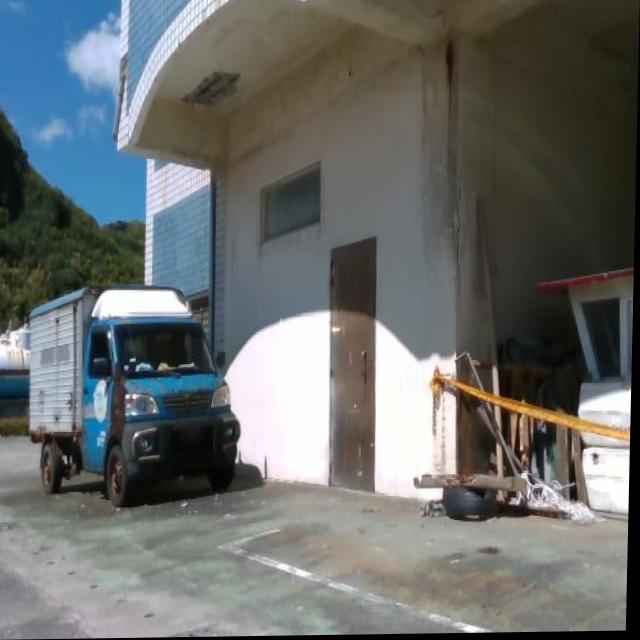pollute: (404, 262, 635, 530)
